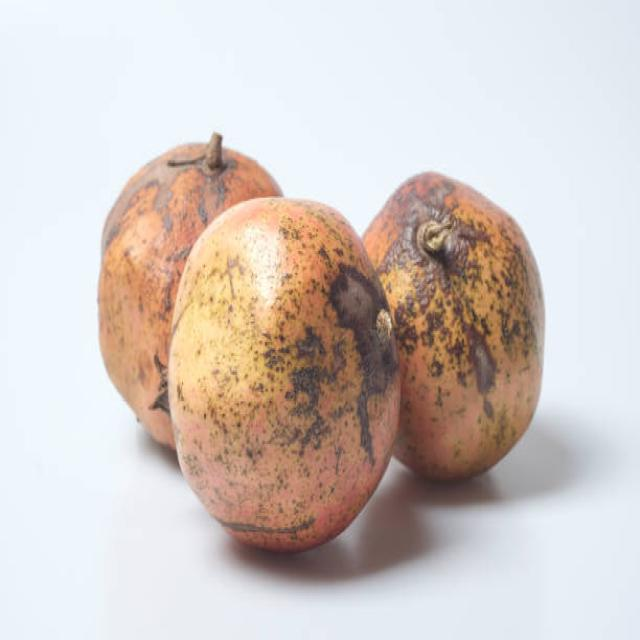overripe: (165, 193, 403, 558), (366, 168, 550, 487)
